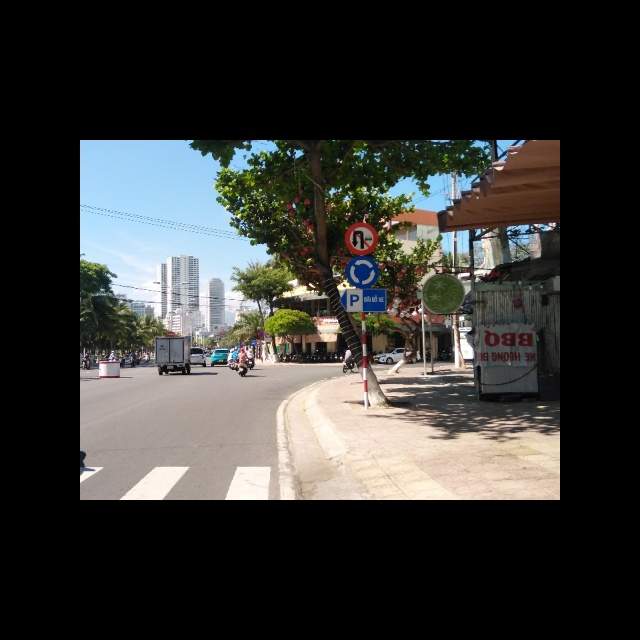Cấm xe ô tô quay đầu: (344, 222, 379, 255)
Nơi giao nhau chạy theo vòng xuyến: (345, 256, 379, 288)
Nơi đỗ xe: (339, 288, 387, 314)
